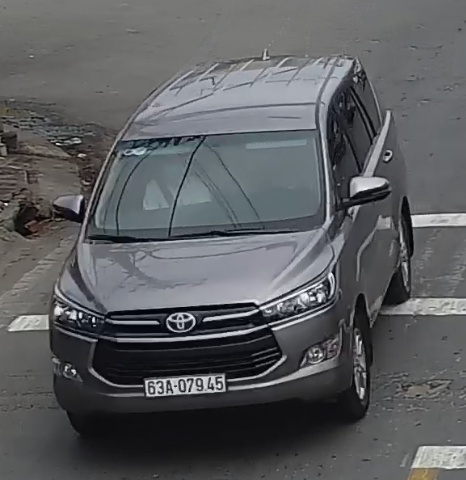vehicle plate: (135, 364, 240, 403)
